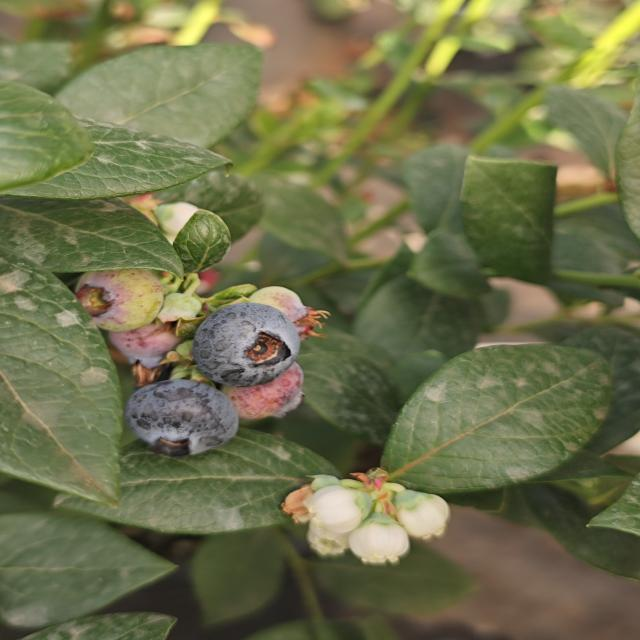ripe: (189, 301, 303, 389), (122, 378, 241, 460)
